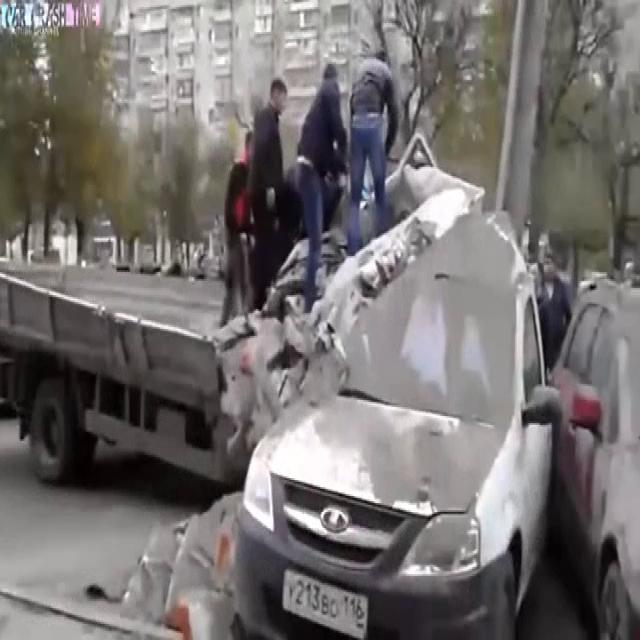accident: (186, 223, 489, 585)
